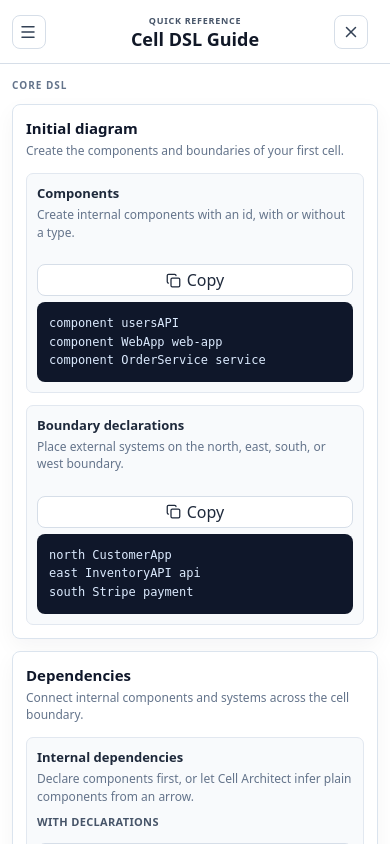
Scenario: DslGuide › opens mobile contents and closes it after selecting a section
The width and height of the screenshot is (390, 844).
Click the button named "Open contents".
click(29, 32)  # box [12,14,46,48]
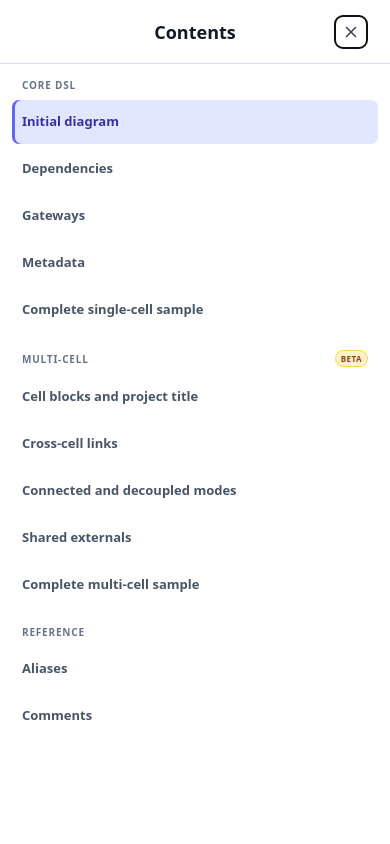
Expected: the heading "Contents" is shown, [154,20,236,44]
Expected: the number of navigation bars "DSL guide contents" is 2
Click the button "Shared externals".
click(77, 537)  # box [12,516,378,560]
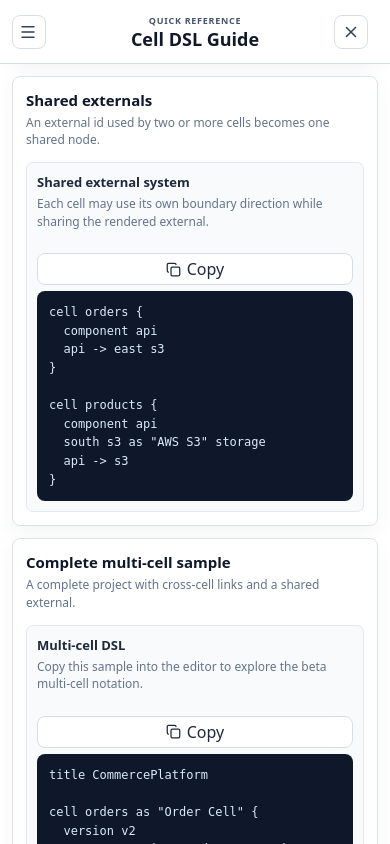
Expected: the heading "Contents" is gone
